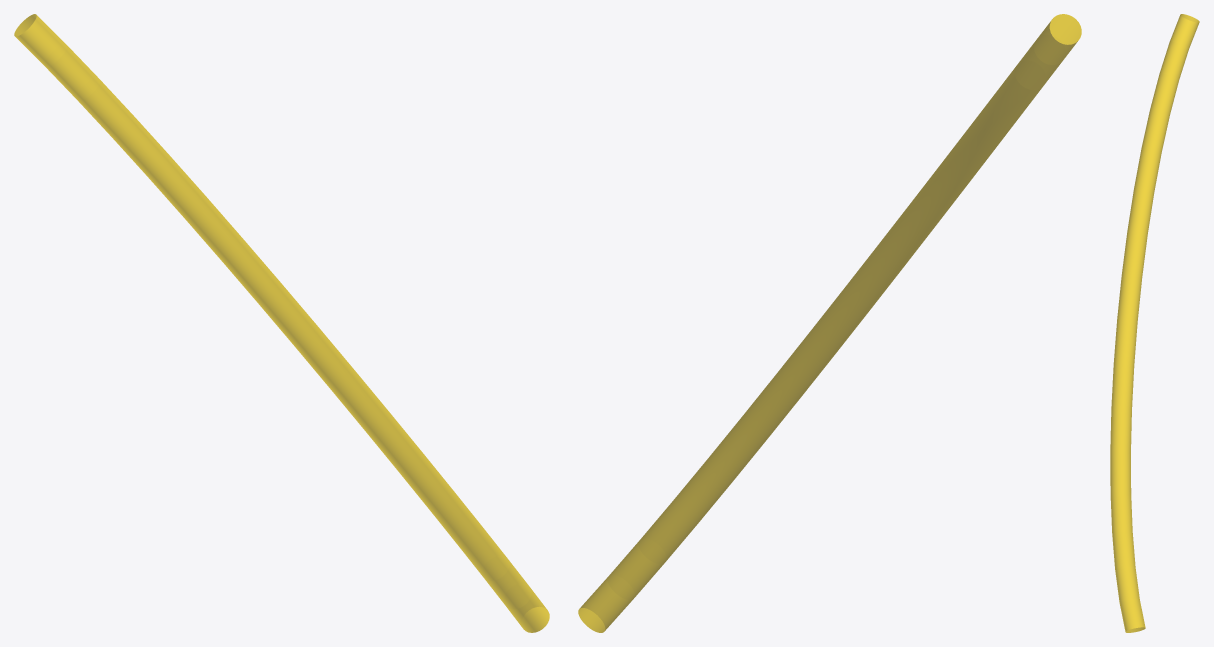
File: Event_100608114_track_15.fbx
The picture shows the model from 3 angles, left to right: view 1: azimuth 30°, elevation 25°; view 2: azimuth 150°, elevation 25°; view 3: azimuth 270°, elevation 25°; orthographic projection. The views are drawn at different scales.
Parts seen in each view (by area): view 1: Model; view 2: Model; view 3: Model.
Part boxes in pixels (box(x1,y1,x2,y2)): Model: box(14, 14, 549, 632); Model: box(578, 14, 1081, 632); Model: box(1110, 14, 1199, 632).
Size of the model in its own units: 0.7373 by 0.9998 by 0.1724.
